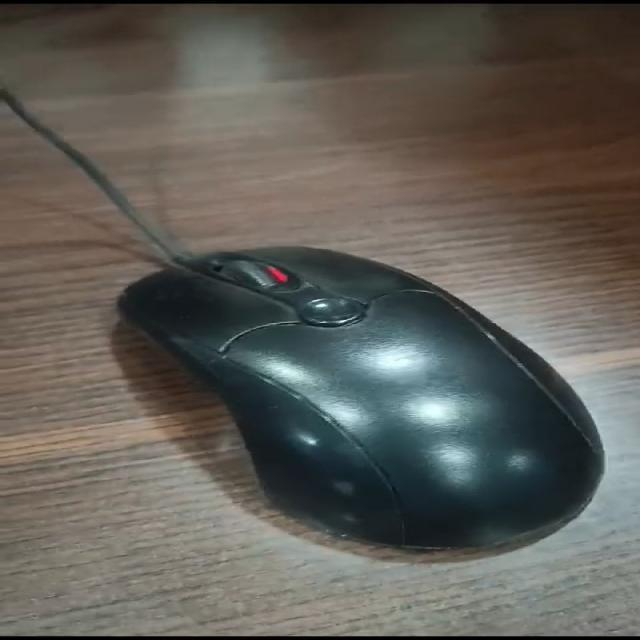mouse: (89, 226, 630, 566)
